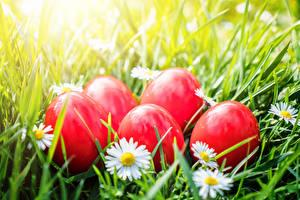chamomile: (102, 143, 154, 179), (195, 172, 232, 200), (23, 127, 54, 151), (190, 143, 218, 167), (125, 67, 160, 84), (191, 89, 219, 110), (272, 103, 295, 124), (50, 82, 84, 96)
